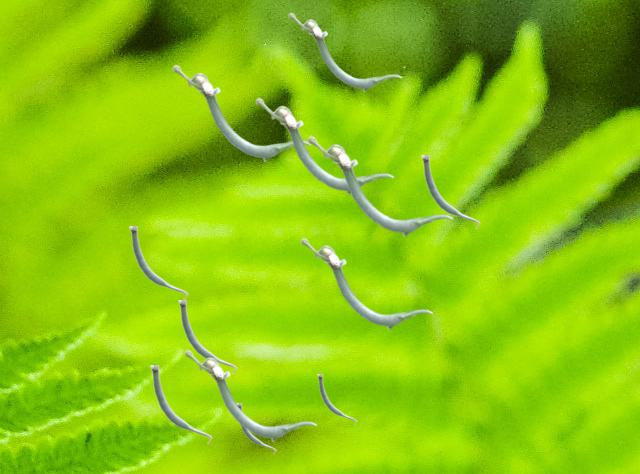french_bean: (307, 135, 452, 236), (172, 64, 310, 161), (255, 97, 393, 194), (300, 237, 432, 329), (184, 349, 316, 441), (288, 12, 401, 91), (150, 365, 211, 443), (421, 155, 479, 228), (178, 300, 236, 373), (129, 226, 187, 299), (317, 374, 356, 424), (238, 403, 275, 453)
